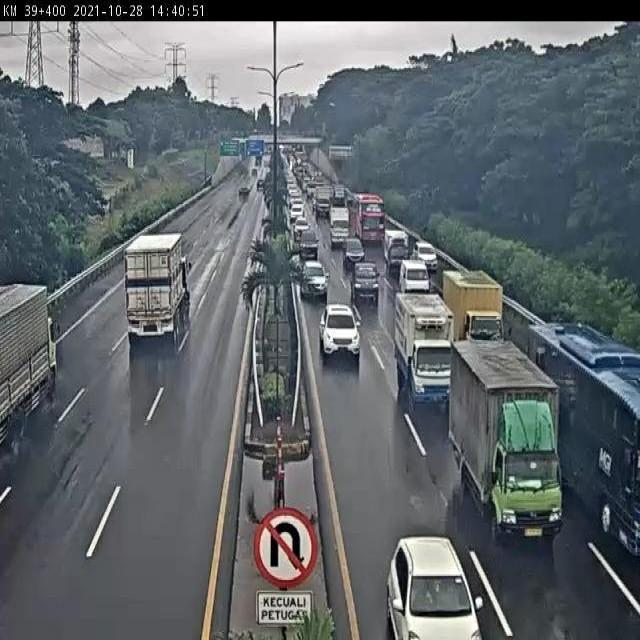big bus: (529, 324, 640, 553)
big truck: (123, 236, 190, 344)
car: (384, 537, 484, 640), (317, 300, 362, 361), (398, 256, 433, 293), (350, 258, 380, 298), (300, 259, 329, 300)
mid truck: (449, 336, 563, 544), (394, 292, 456, 407), (442, 270, 506, 346)
truck-m-: (0, 281, 60, 452)
